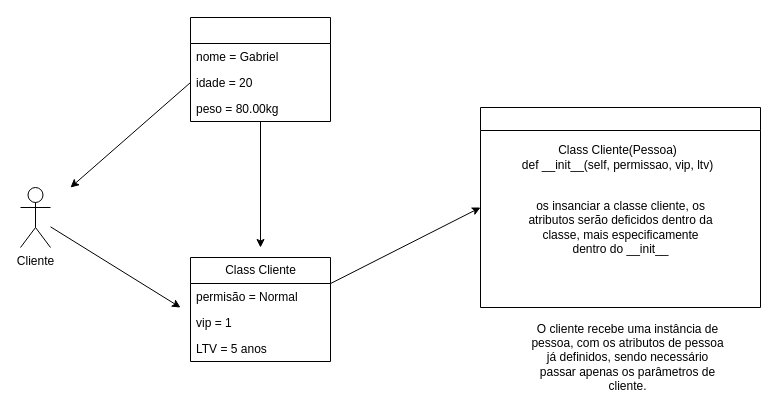
The diagram is 778 pixels wide and 411 high, and some of its shapes have lost their labels. The box of each missing label's shape, as (x1, y1, x2, y2) in pixels:
Class Pessoa: (190, 16, 330, 122)
Criando Cliente: (480, 106, 760, 308)
